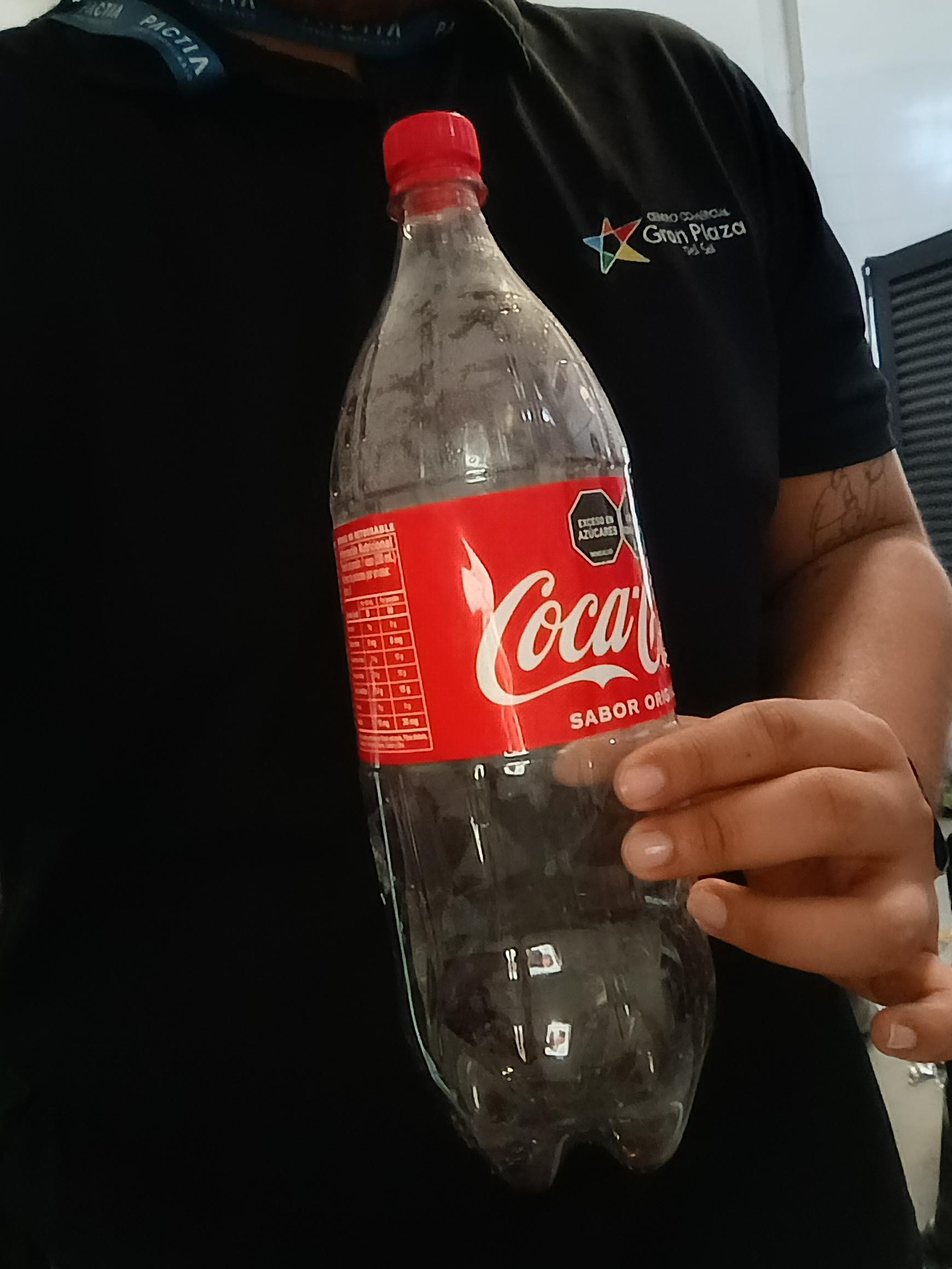Plastico: (335, 112, 706, 1191)
